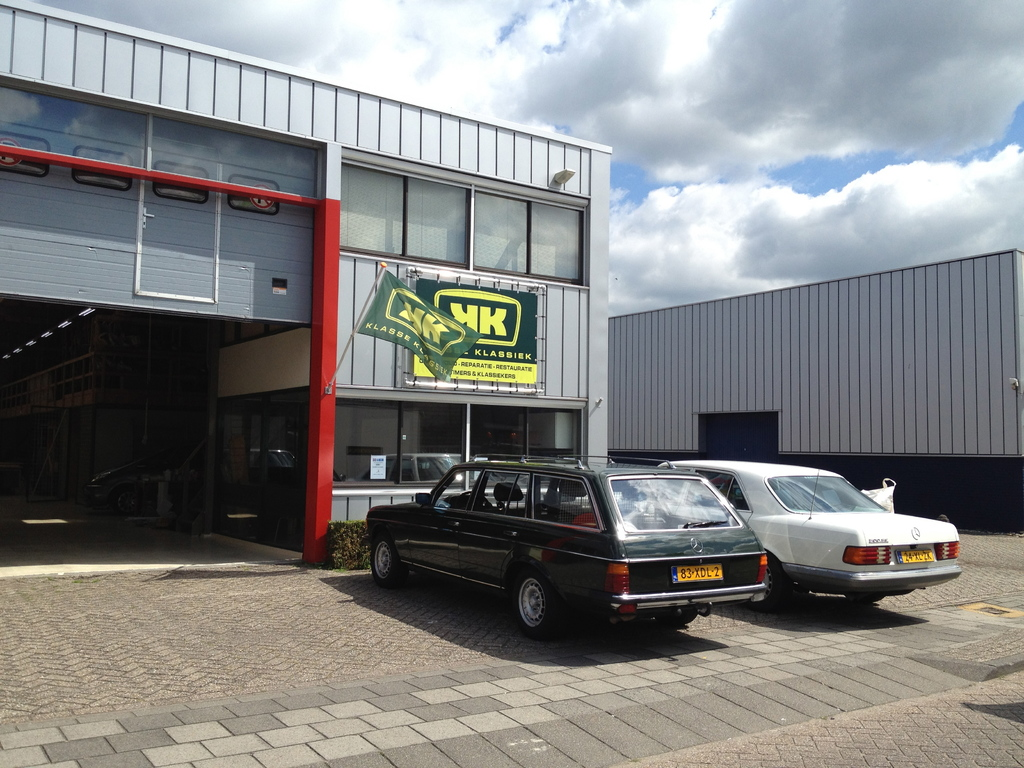car: (351, 433, 775, 652), (660, 449, 985, 612)
